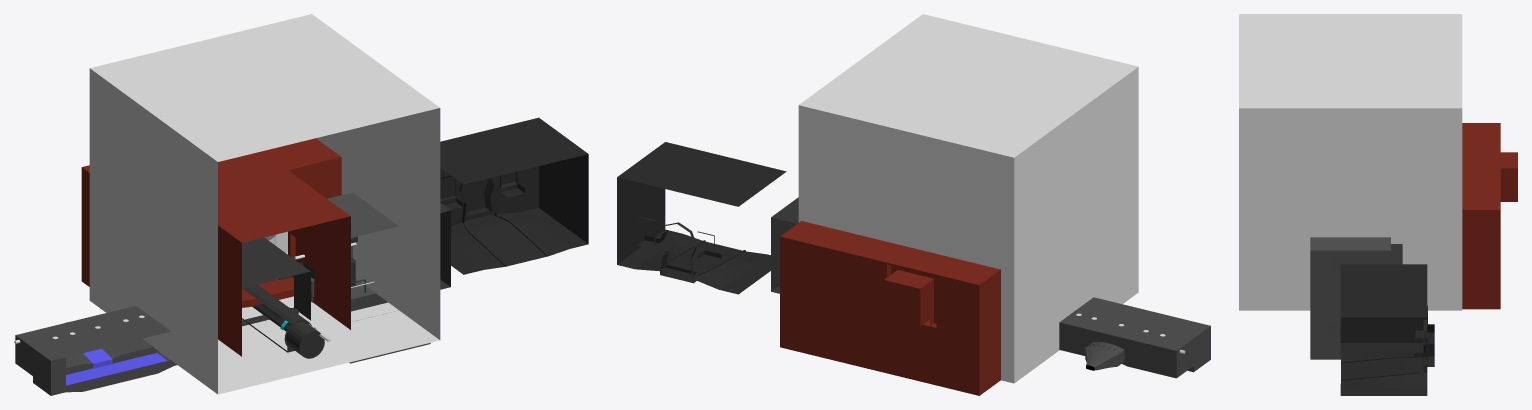
Rendered from RoomsJeuTP.fbx.
The picture shows the model from 3 angles, left to right: view 1: azimuth 30°, elevation 25°; view 2: azimuth 150°, elevation 25°; view 3: azimuth 270°, elevation 25°; orthographic projection. The views are drawn at different scales.
Parts seen in each view (by area): view 1: UV2, UV1, VV3, EV1, VV3_toit, EV2, VV1_Toit, EV3, VV2, VV1; view 2: UV2, UV1, VV3, EV1, VV3_toit, VV2; view 3: UV2, UV1, VV3, VV3_toit, EV3, VV2_toit, UV1_PorteHaut.
Part boxes in pixels (x1=…): UV2: x1=89, y1=14, x2=440, y2=394; UV1: x1=81, y1=138, x2=350, y2=356; VV3: x1=440, y1=154, x2=588, y2=274; EV1: x1=15, y1=306, x2=176, y2=395; VV3_toit: x1=440, y1=117, x2=587, y2=184; EV2: x1=242, y1=284, x2=324, y2=358; VV1_Toit: x1=242, y1=237, x2=310, y2=288; EV3: x1=311, y1=192, x2=430, y2=363; VV2: x1=351, y1=210, x2=450, y2=311; VV1: x1=242, y1=262, x2=314, y2=326; UV2: x1=798, y1=14, x2=1138, y2=383; UV1: x1=780, y1=221, x2=1000, y2=395; VV3: x1=617, y1=177, x2=770, y2=294; EV1: x1=1059, y1=297, x2=1210, y2=378; VV3_toit: x1=617, y1=142, x2=786, y2=206; VV2: x1=771, y1=217, x2=796, y2=293; UV2: x1=1239, y1=14, x2=1462, y2=310; UV1: x1=1462, y1=123, x2=1517, y2=309; VV3: x1=1340, y1=306, x2=1434, y2=395; VV3_toit: x1=1340, y1=264, x2=1427, y2=317; EV3: x1=1310, y1=237, x2=1390, y2=359; VV2_toit: x1=1329, y1=244, x2=1402, y2=270; UV1_PorteHaut: x1=1500, y1=152, x2=1509, y2=201.
Size of the model in its own units: 11893 by 5615 by 5956.
